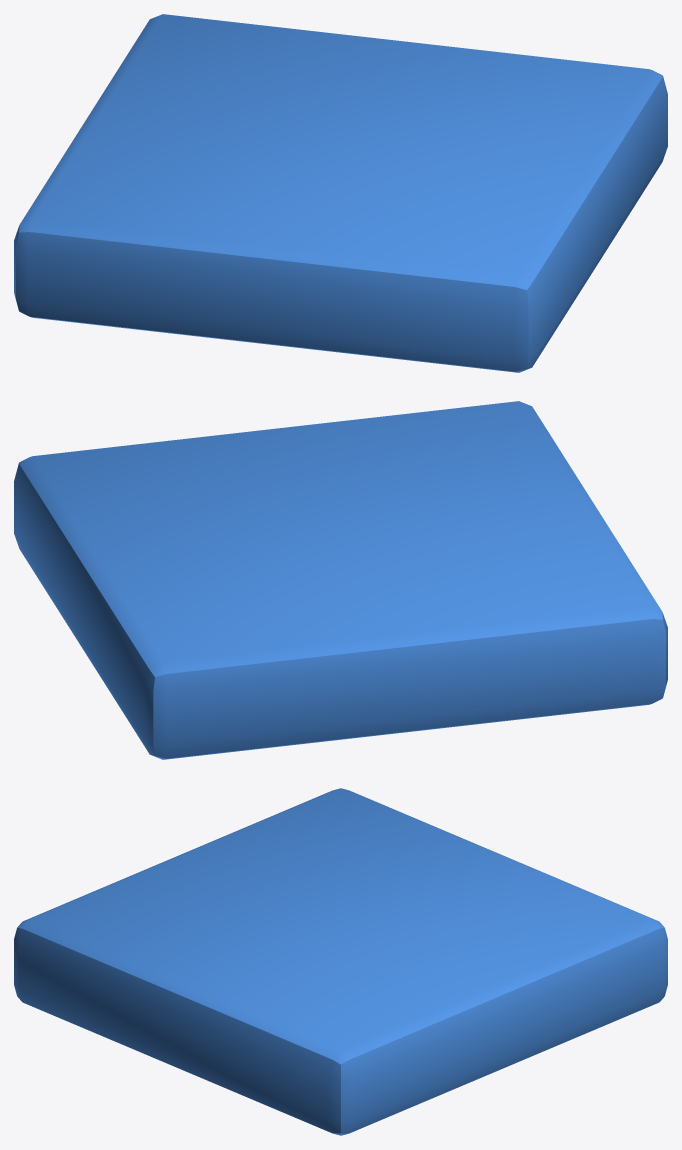
The model's file is SymbolDiamond.fbx.
The picture shows the model from 3 angles, top to bottom: view 1: azimuth 30°, elevation 25°; view 2: azimuth 150°, elevation 25°; view 3: azimuth 270°, elevation 25°; orthographic projection. The views are drawn at different scales.
Visible parts, largest first — view 1: DiamondSymbol; view 2: DiamondSymbol; view 3: DiamondSymbol.
Boxes of the visible parts, x1,y1,x2,y2 form: DiamondSymbol: [14, 14, 667, 372]; DiamondSymbol: [14, 401, 667, 759]; DiamondSymbol: [14, 788, 667, 1135].
Size of the model in its own units: 10.51 by 1.52 by 10.51.
